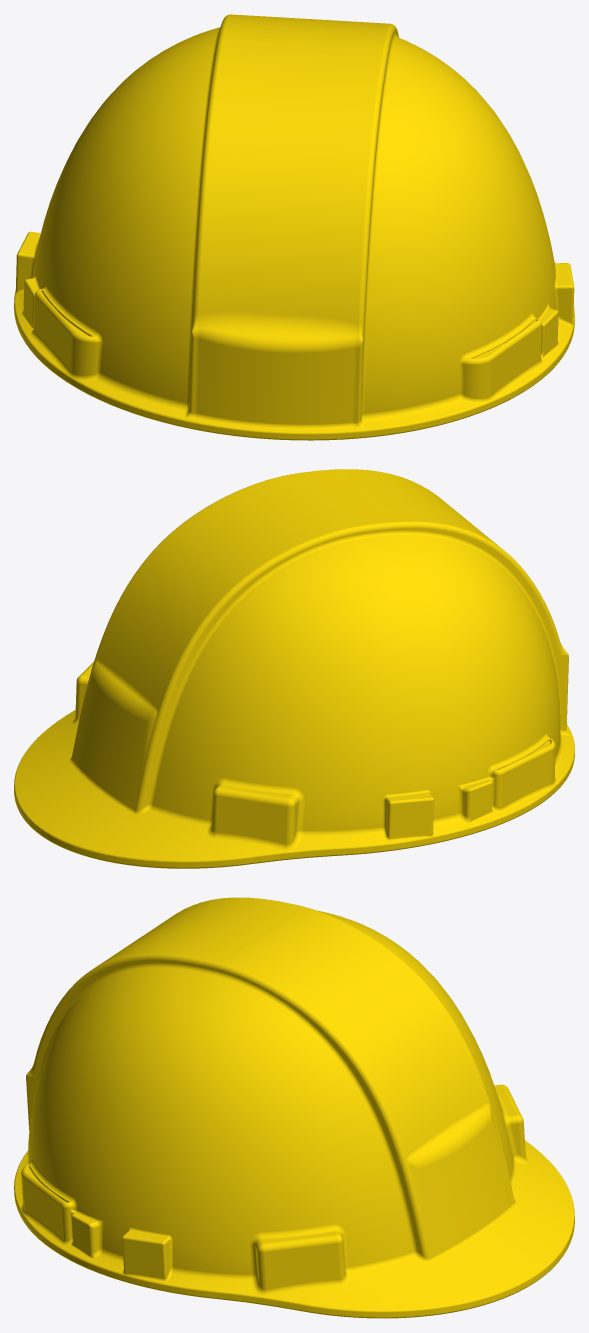
File: construction_helmet_yellow.glb
3 renders of one model, top to bottom at view 1: azimuth 30°, elevation 25°; view 2: azimuth 150°, elevation 25°; view 3: azimuth 270°, elevation 25°, orthographic. The views are drawn at different scales.
Visible parts, largest first — view 1: Body_1; view 2: Body_1; view 3: Body_1.
Boxes of the visible parts, left/top/right/bottom form: Body_1: left=14, top=14, right=574, bottom=440; Body_1: left=14, top=469, right=574, bottom=868; Body_1: left=14, top=897, right=574, bottom=1318.
Size of the model in its own units: 0.655 by 0.3722 by 0.6866.
